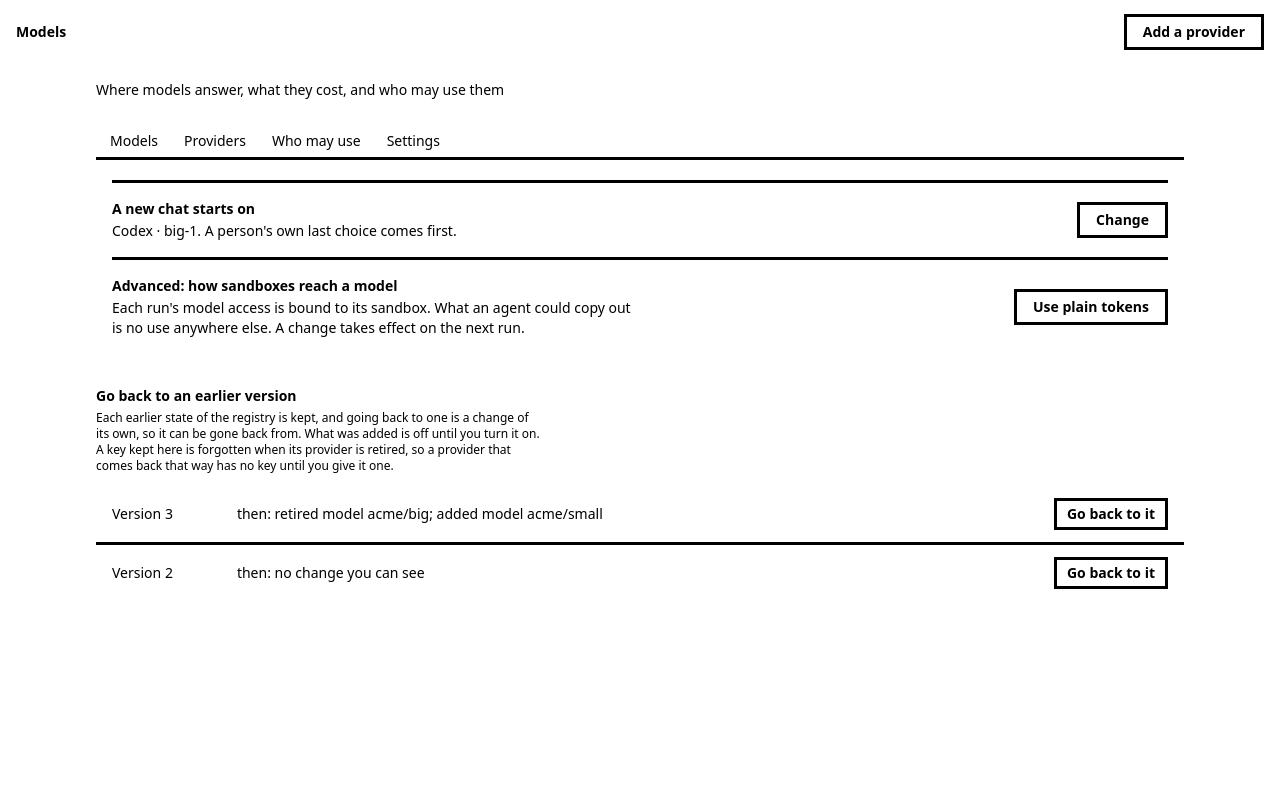
Test case: the Settings tab › starts a new chat on the first that can run until one is chosen
The width and height of the screenshot is (1280, 800).
Click the button "Change": (1123, 220) [1077, 202, 1168, 238]
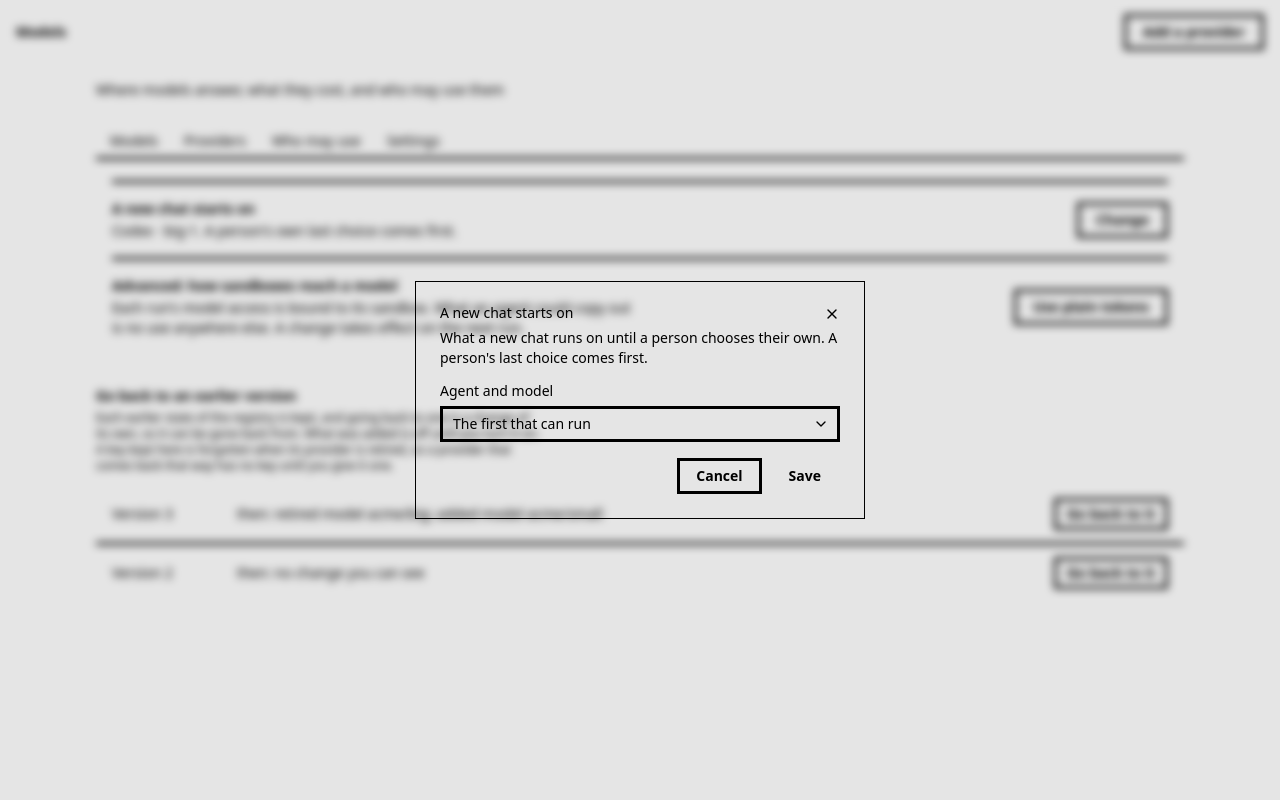
Now the text "The first that can run" is shown, box [453, 414, 591, 433]
